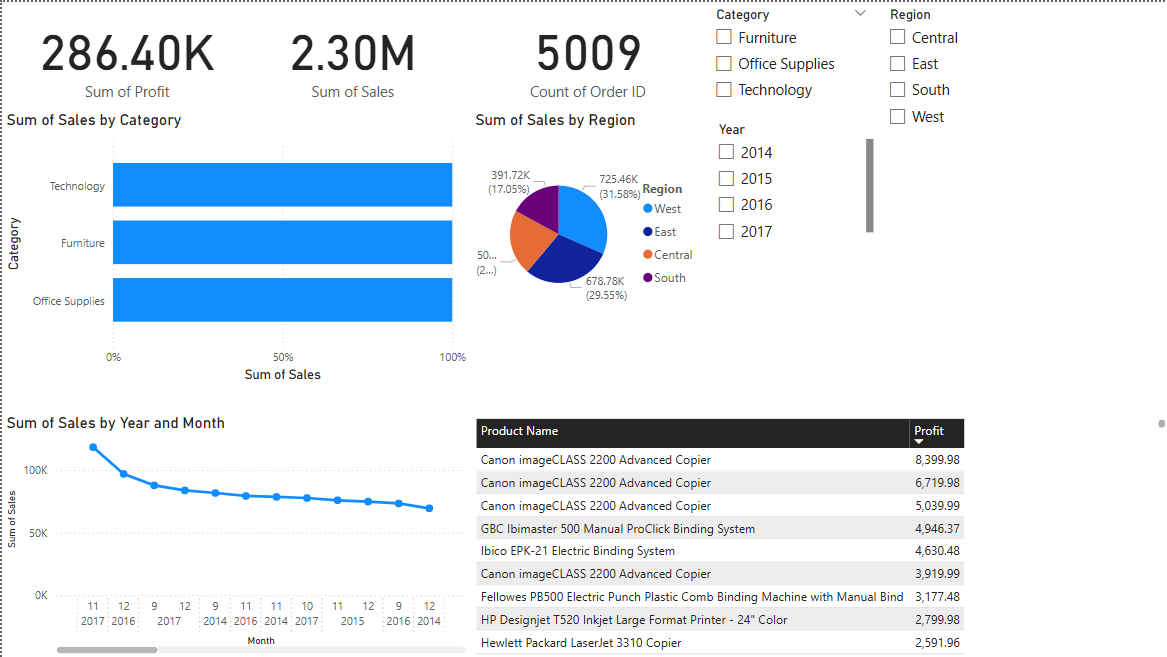

The page's visual inventory and layout, read from the dashboard file:
{"tool":"powerbi","page":{"name":"Page 1","canvas":[1280,720],"ordinal":0},"visuals":[{"type":"card","fields":{"Values":["Sum(Sample - Superstore (2).Profit)"]},"box":[9.8,0,255.6,118.6],"z":0},{"type":"card","fields":{"Values":["Sum(Sample - Superstore (2).Sales)"]},"box":[256.8,0,256.8,118.6],"z":1000},{"type":"card","fields":{"Values":["Count(Sample - Superstore (2).Order ID)"]},"box":[513.6,0,256.8,118.6],"z":2000},{"type":"hundredPercentStackedBarChart","fields":{"Category":["Sample - Superstore (2).Category"],"Y":["Sum(Sample - Superstore (2).Sales)"]},"box":[0,118.6,513.6,302],"z":3000},{"type":"pieChart","fields":{"Y":["Sum(Sample - Superstore (2).Sales)"],"Category":["Sample - Superstore (2).Region"]},"box":[513.6,118.6,258,251.9],"z":5000},{"type":"tableEx","fields":{"Values":["Sample - Superstore (2).Product Name","Sample - Superstore (2).Profit"]},"box":[513.6,452.4,766.7,267.8],"z":6000},{"type":"slicer","fields":{"Values":["Sample - Superstore (2).Category"]},"box":[770.4,0,189.5,126],"z":7000},{"type":"slicer","fields":{"Values":["Sample - Superstore (2).Region"]},"box":[959.9,0,188.3,156.5],"z":8000},{"type":"slicer","fields":{"Values":["Sample - Superstore (2).Year"]},"box":[772.5,126.2,187.5,143.8],"z":9000},{"type":"lineChart","fields":{"Y":["Sum(Sample - Superstore (2).Sales)"],"Category":["Sample - Superstore (2).Year","Sample - Superstore (2).Month"]},"box":[0,450.7,513.7,268.5],"z":9001}]}

Visuals, with their boxes in screenshot pixels (x1, y1, x2, y2), scaled from the page's 1280x720 canvas onto the 1167x657 screenshot:
card - Sum(Sample - Superstore (2).Profit): 9 0 242 108
card - Sum(Sample - Superstore (2).Sales): 234 0 468 108
card - Count(Sample - Superstore (2).Order ID): 468 0 702 108
hundredPercentStackedBarChart - Sample - Superstore (2).Category x Sum(Sample - Superstore (2).Sales): 0 108 468 384
pieChart - Sum(Sample - Superstore (2).Sales) x Sample - Superstore (2).Region: 468 108 703 338
tableEx - Sample - Superstore (2).Product Name x Sample - Superstore (2).Profit: 468 413 1166 656
slicer - Sample - Superstore (2).Category: 702 0 875 115
slicer - Sample - Superstore (2).Region: 875 0 1047 143
slicer - Sample - Superstore (2).Year: 704 115 875 246
lineChart - Sum(Sample - Superstore (2).Sales) x Sample - Superstore (2).Year: 0 411 468 656
